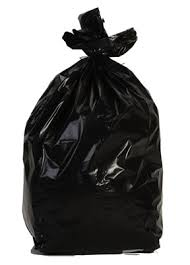Trash: (9, 4, 179, 261)
